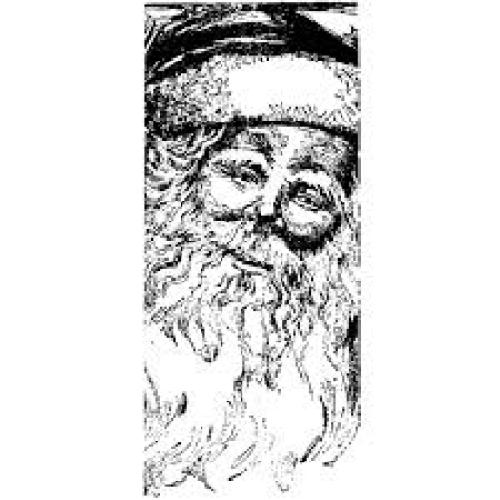Santa: (140, 4, 362, 498)
